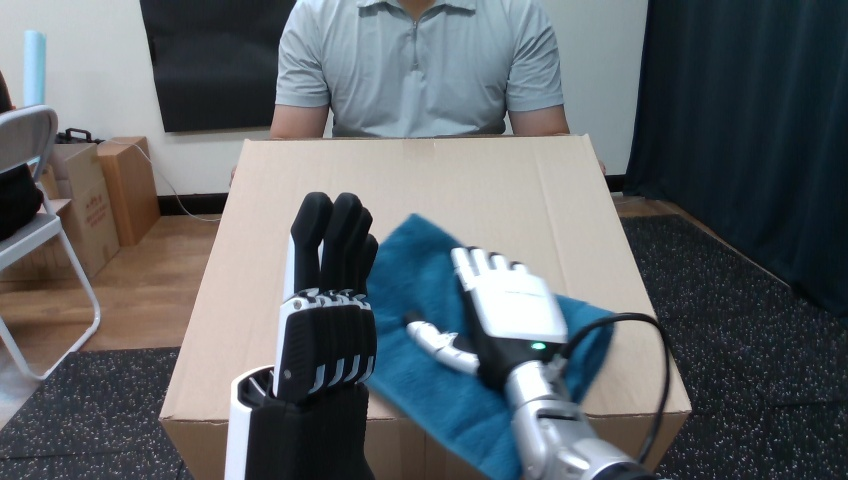left robot hand: (405, 247, 670, 479), (225, 192, 377, 479), (562, 319, 665, 462)
